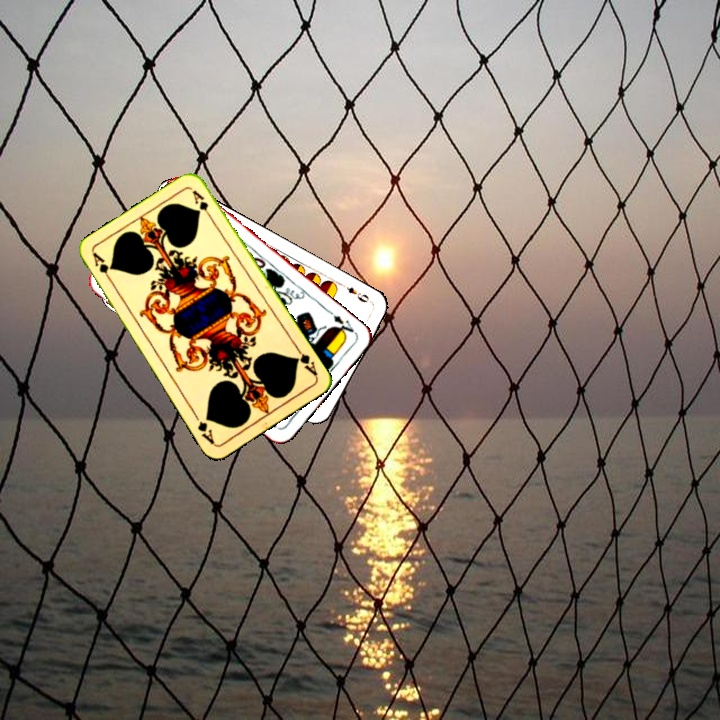E9: (342, 283, 375, 305)
EA: (329, 310, 357, 339)
GA: (290, 343, 320, 379), (89, 249, 116, 286)
